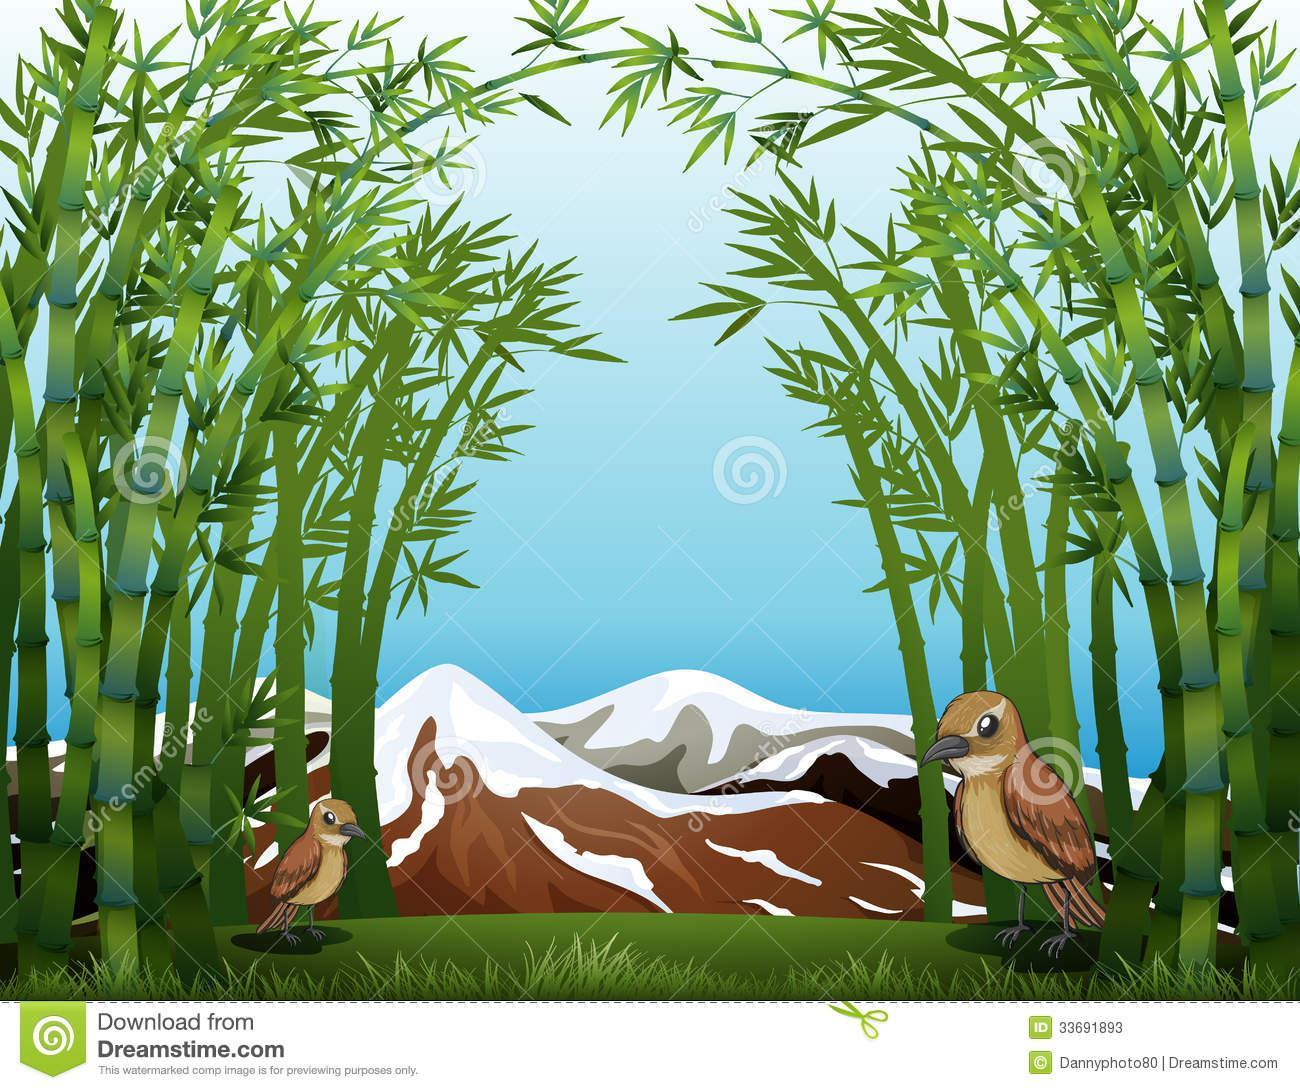bird: (913, 684, 1117, 959), (264, 796, 369, 945)
